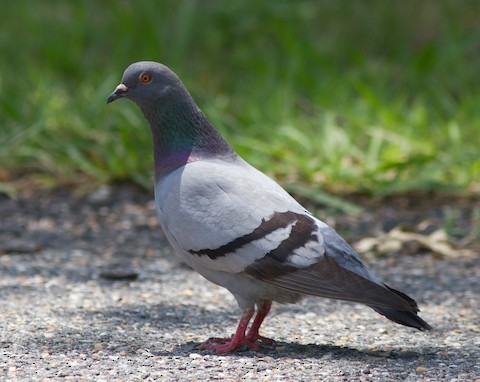pigeon: (101, 57, 438, 357)
